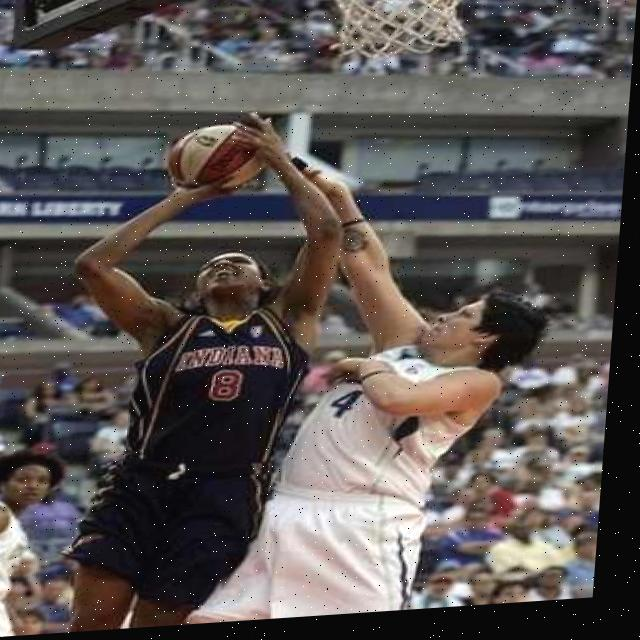basketball: (165, 118, 273, 195)
hoop: (308, 0, 485, 67)
